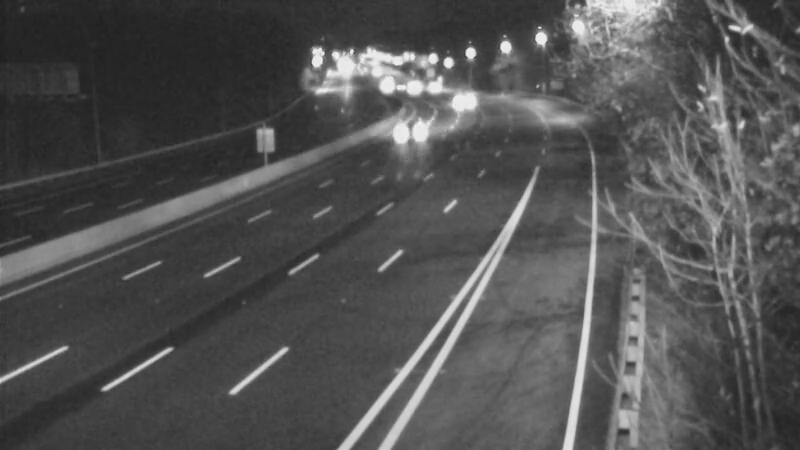vehicle: (413, 63, 463, 113), (387, 63, 437, 113), (375, 63, 425, 113), (362, 62, 412, 112), (430, 73, 480, 123), (383, 105, 433, 155)
